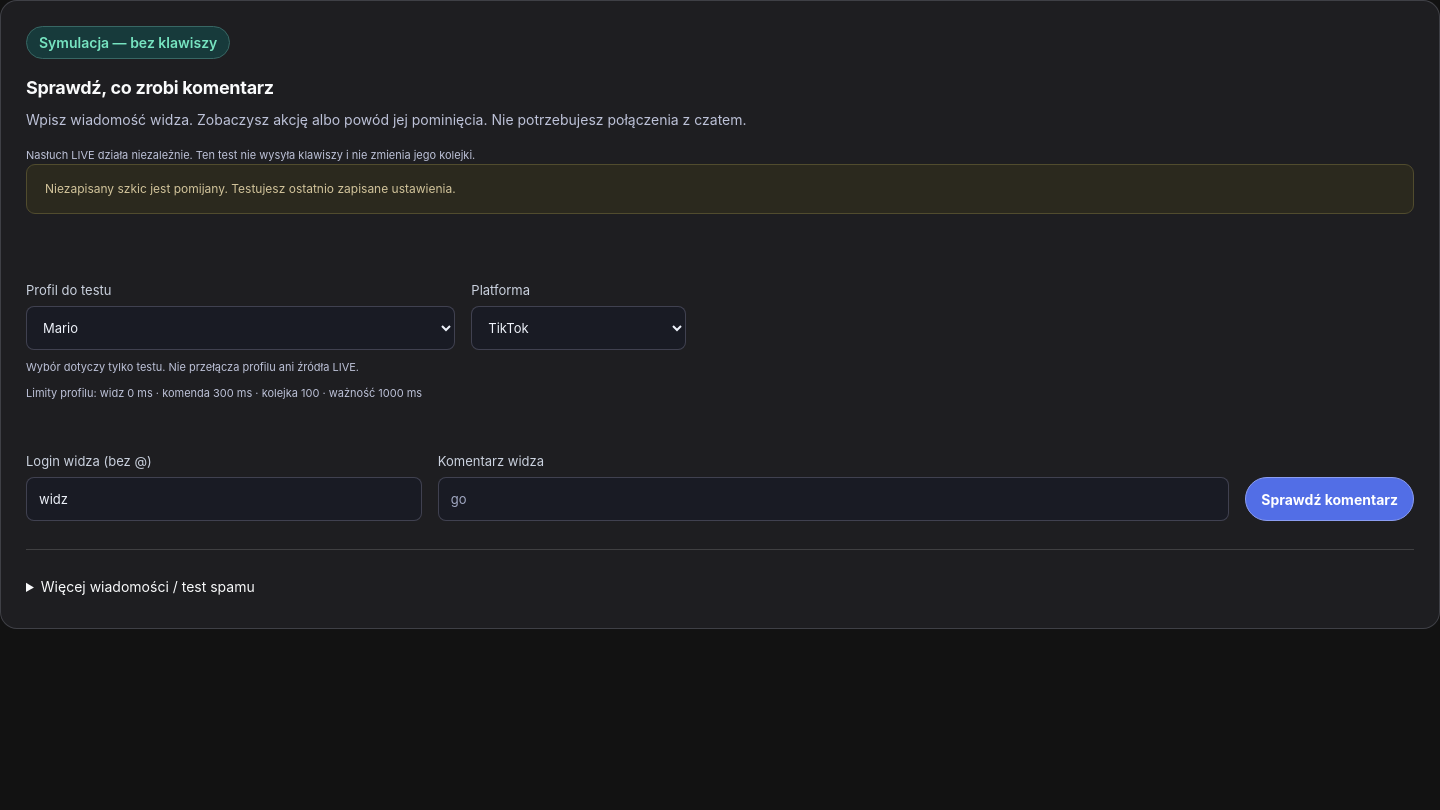
Scenario: tests saved settings without saving a draft and shows the rejection reason
Expected: the text "Symulacja — bez klawiszy" is shown, left=26, top=26, right=230, bottom=59
Expected: the text "Niezapisany szkic" is shown, left=45, top=182, right=456, bottom=196
Type "abc" into the field labelled "Komentarz widza".
click(833, 499); type("abc")  # box left=438, top=477, right=1229, bottom=521
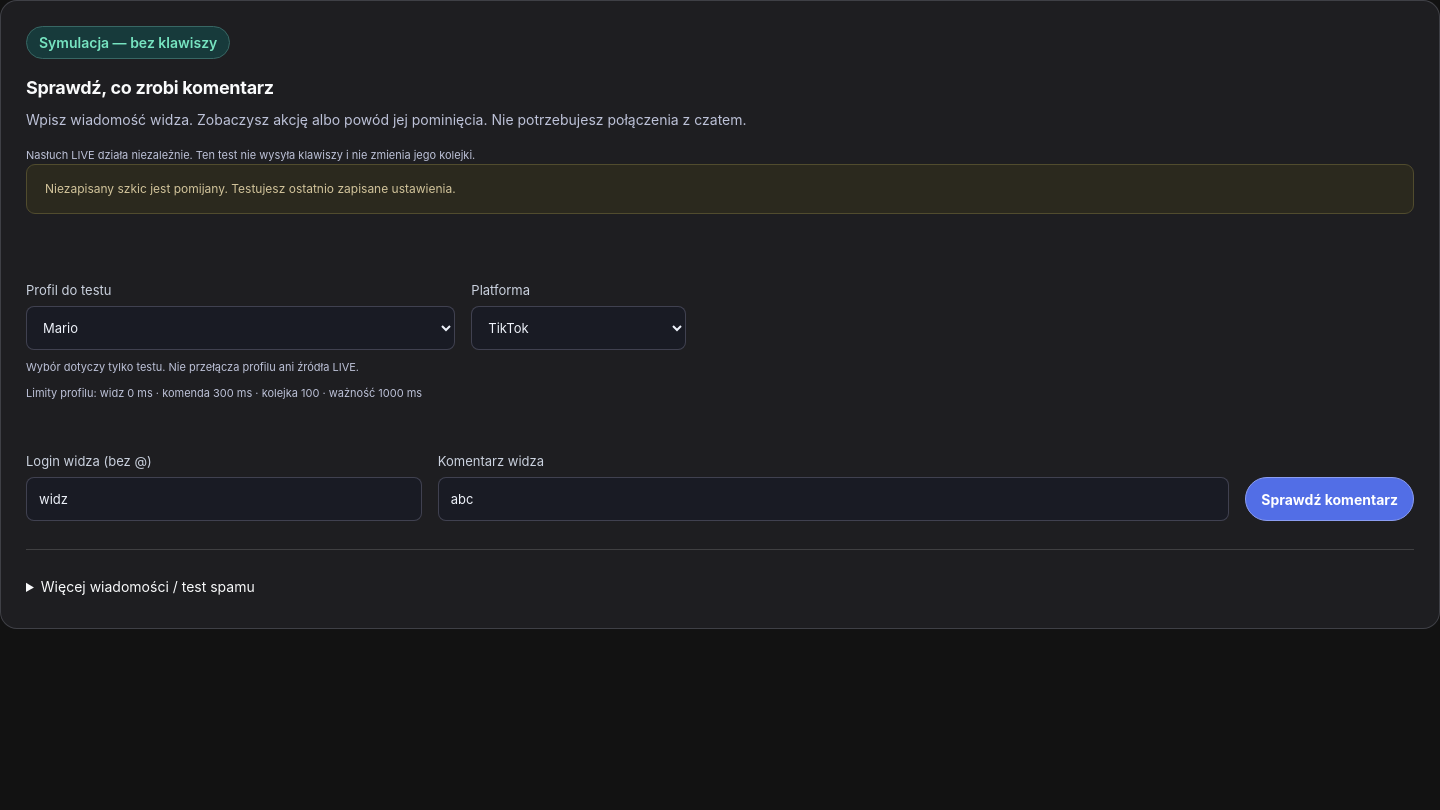
Click the button "Sprawdź komentarz".
click(1330, 499)  # box left=1245, top=477, right=1414, bottom=521
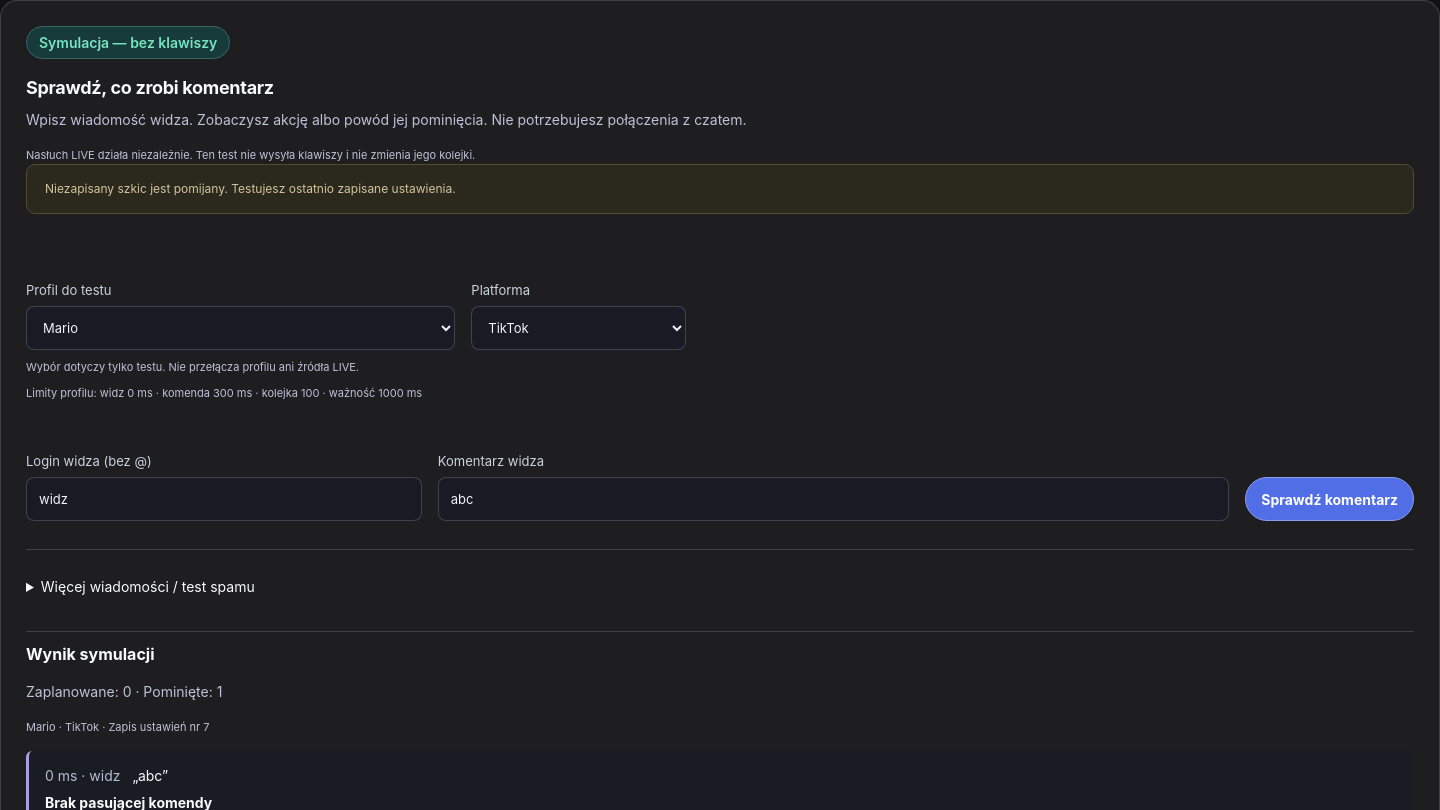
Now the text "Brak pasującej komendy" is shown, box left=45, top=794, right=212, bottom=809
